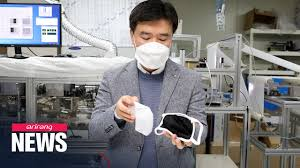masked: (126, 4, 178, 76)
